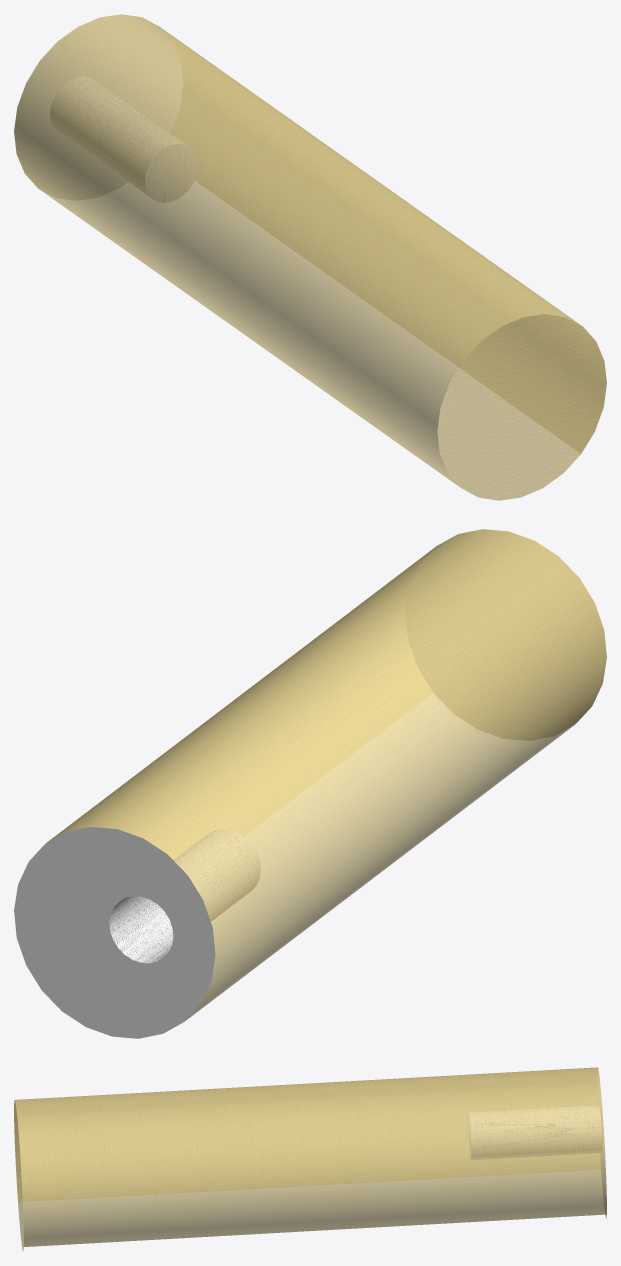
File: original-27.obj
3 views of the same model, one above another, from view 1: azimuth 30°, elevation 25°; view 2: azimuth 150°, elevation 25°; view 3: azimuth 270°, elevation 25° (orthographic). The views are drawn at different scales.
Parts seen in each view (by area): view 1: mesh46/mesh46-geometry#mesh46-geometry; view 2: mesh46/mesh46-geometry#mesh46-geometry; view 3: mesh46/mesh46-geometry#mesh46-geometry.
Boxes of the visible parts, x1,y1,x2,y2 form: mesh46/mesh46-geometry#mesh46-geometry: (14,14,606,500); mesh46/mesh46-geometry#mesh46-geometry: (14,529,606,1038); mesh46/mesh46-geometry#mesh46-geometry: (14,1067,606,1250).
Size of the model in its own units: 0.1356 by 0.128 by 0.4371.
